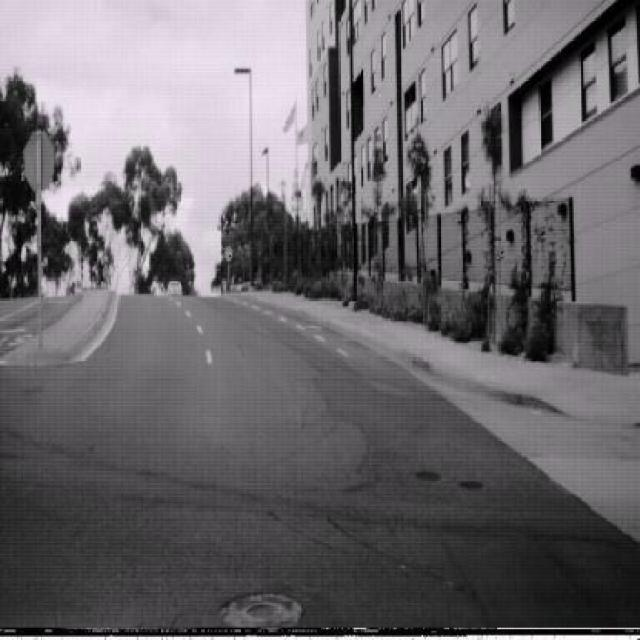stop: (225, 243, 232, 261)
